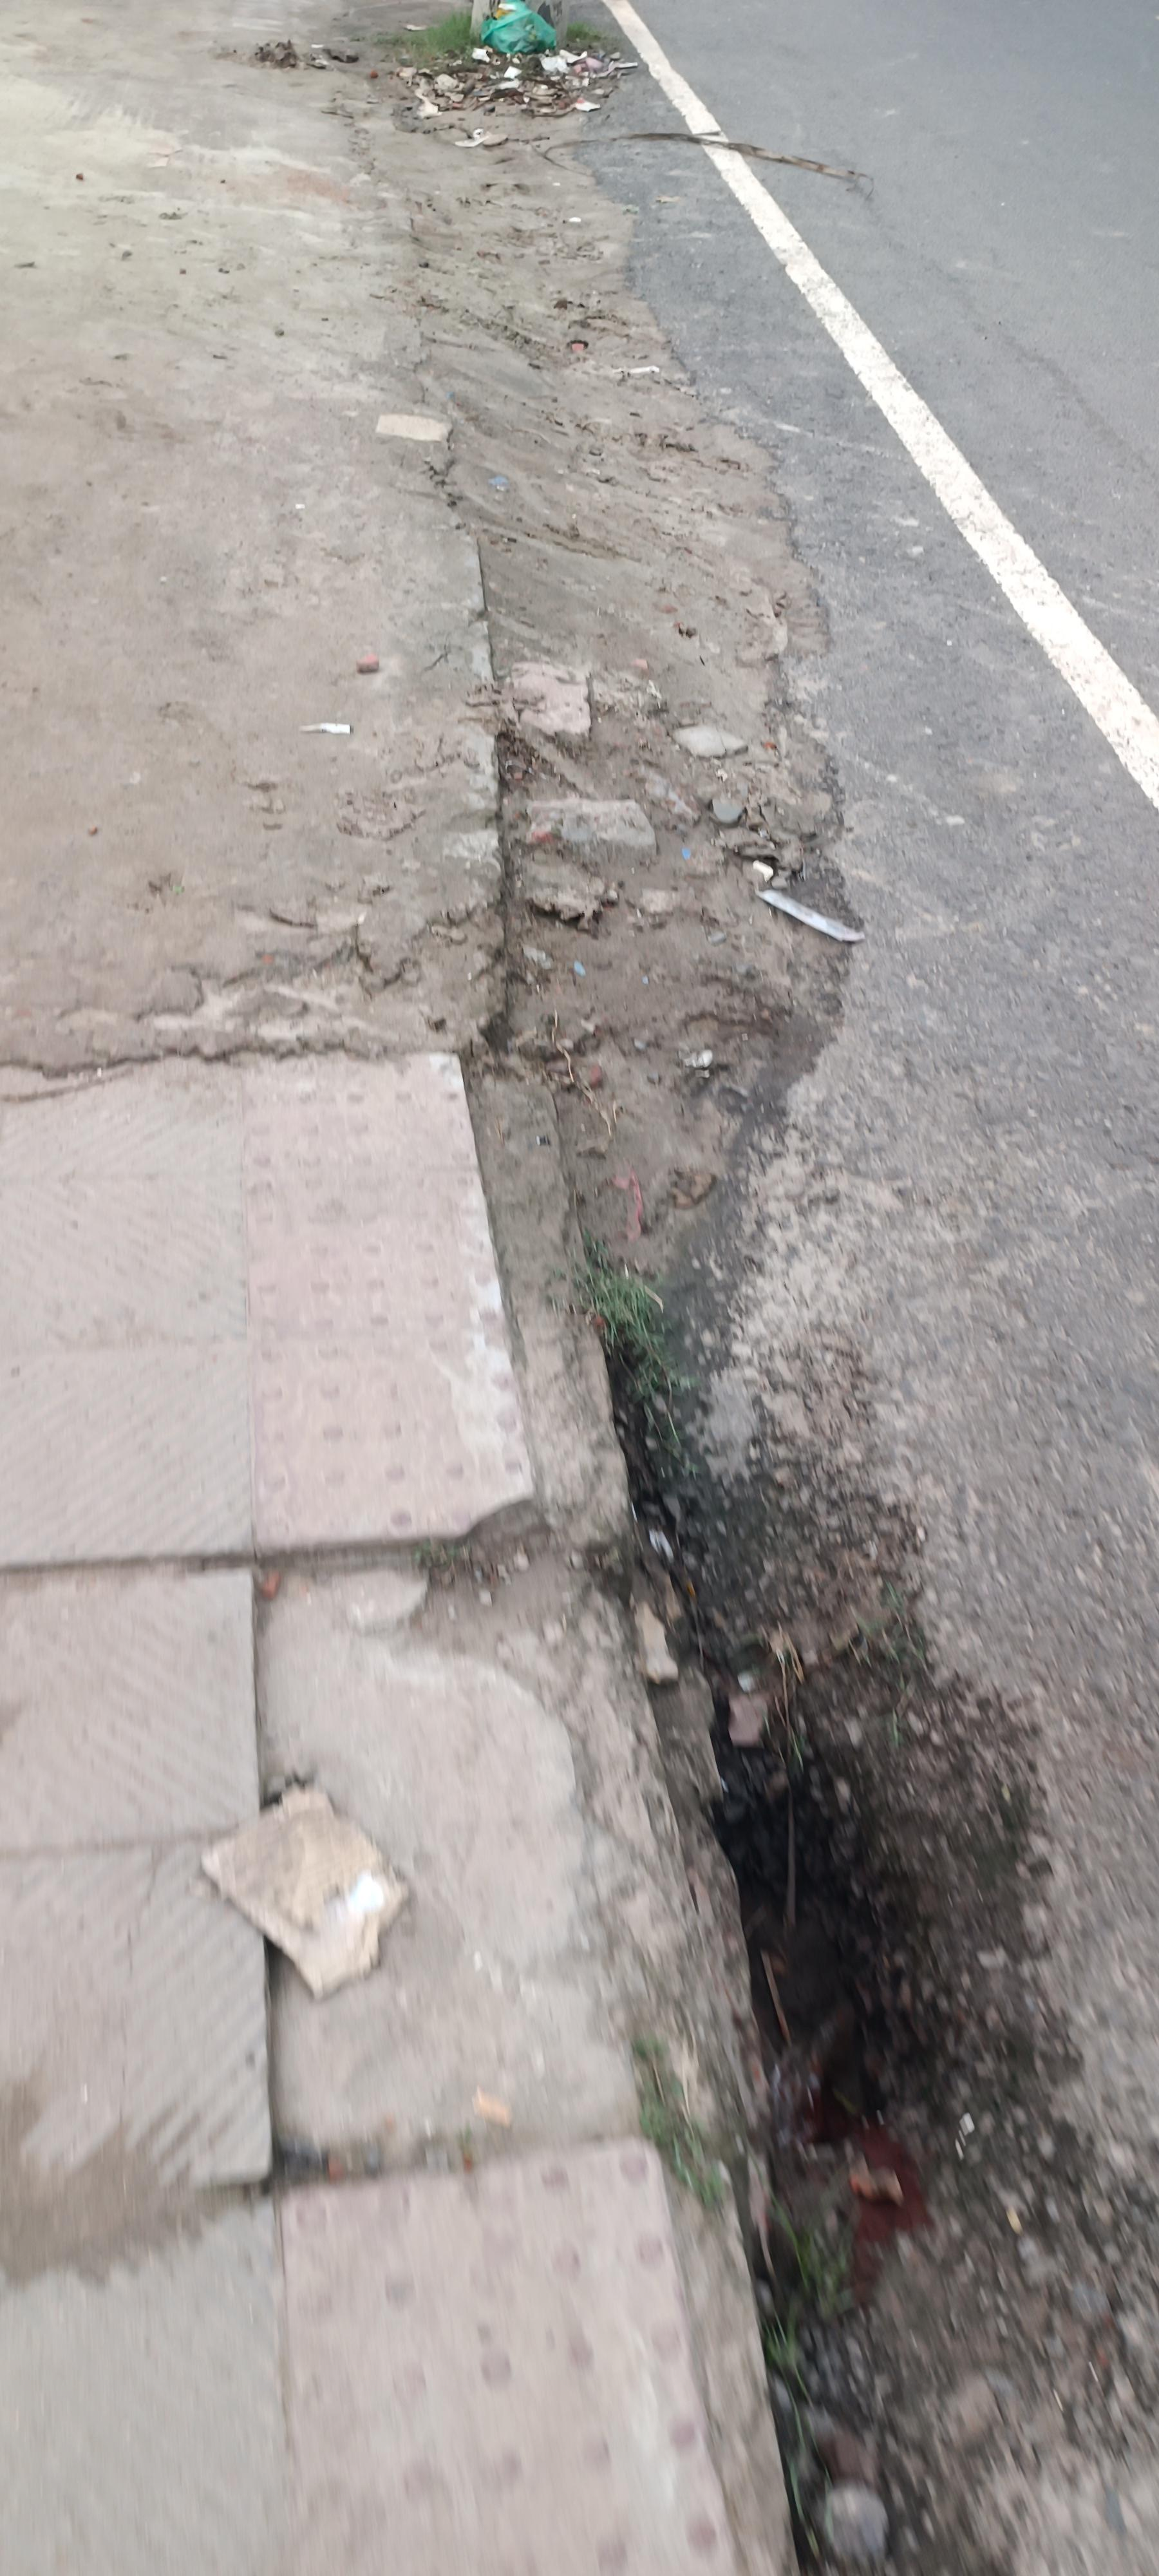Motorcycle: (593, 1475, 1113, 2466)
Pothole: (3, 3, 842, 2573)
